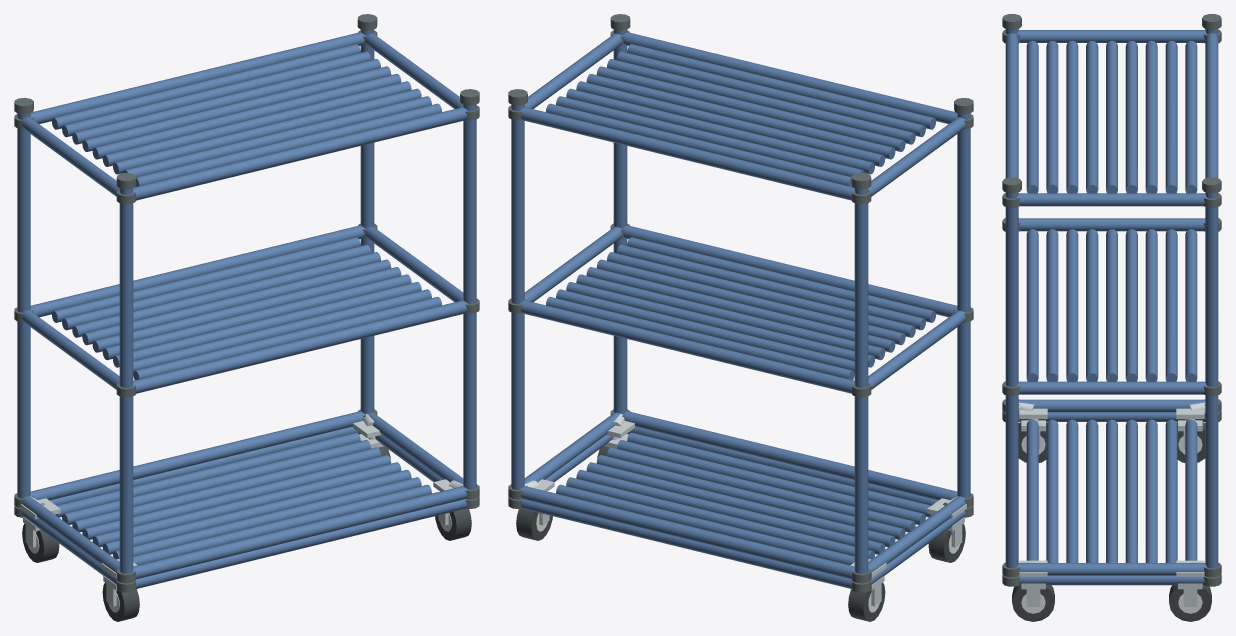
Rendered from creformLowRack.glb.
3 views of the same model, side by side, from view 1: azimuth 30°, elevation 25°; view 2: azimuth 150°, elevation 25°; view 3: azimuth 270°, elevation 25° (orthographic). The views are drawn at different scales.
Visible parts, largest first — view 1: CREFORM-vagn 800 × 400, 3 plan; view 2: CREFORM-vagn 800 × 400, 3 plan; view 3: CREFORM-vagn 800 × 400, 3 plan.
Boxes of the visible parts, <box> form: CREFORM-vagn 800 × 400, 3 plan: <box>14,14,479,621</box>; CREFORM-vagn 800 × 400, 3 plan: <box>508,14,973,621</box>; CREFORM-vagn 800 × 400, 3 plan: <box>1002,14,1221,621</box>.
Bounding box in the file's own units: 0.8679 × 1.04 × 0.47.
